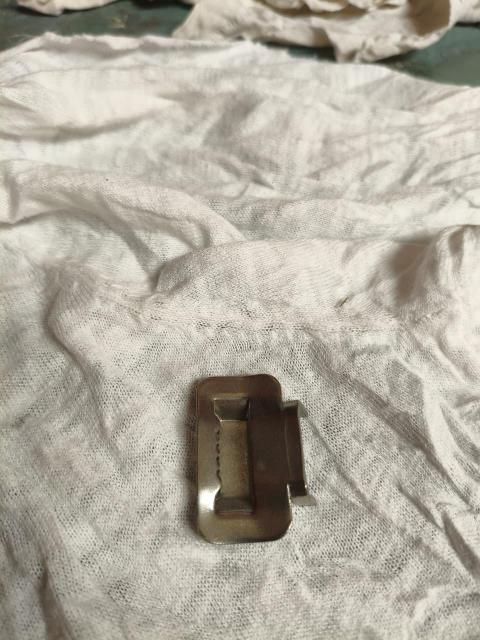Metal: (188, 370, 317, 548)
